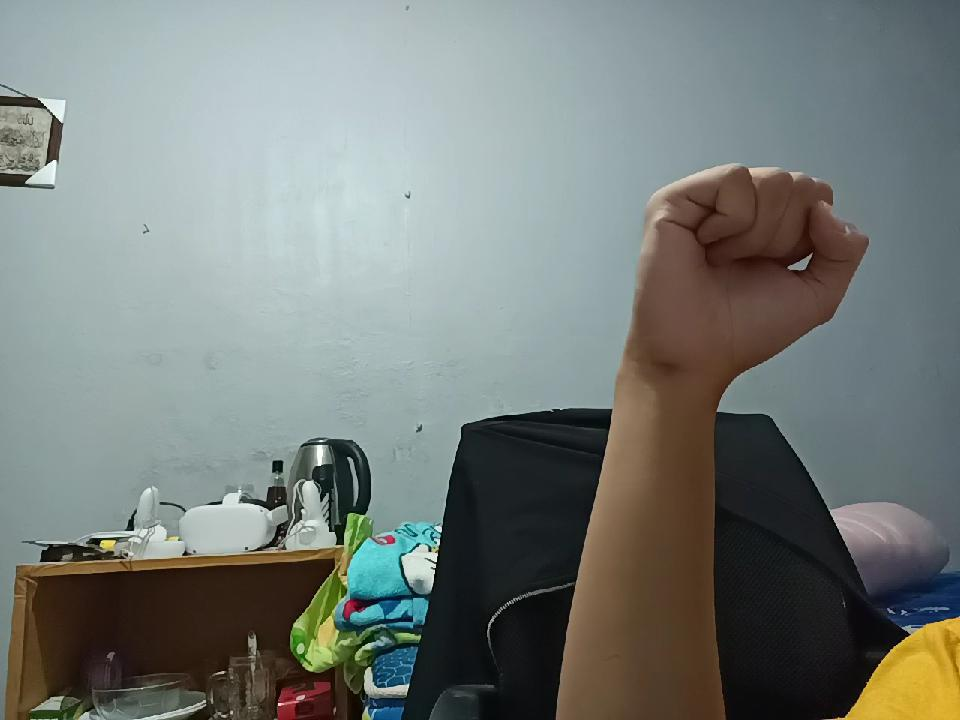rock: (600, 155, 890, 384)
